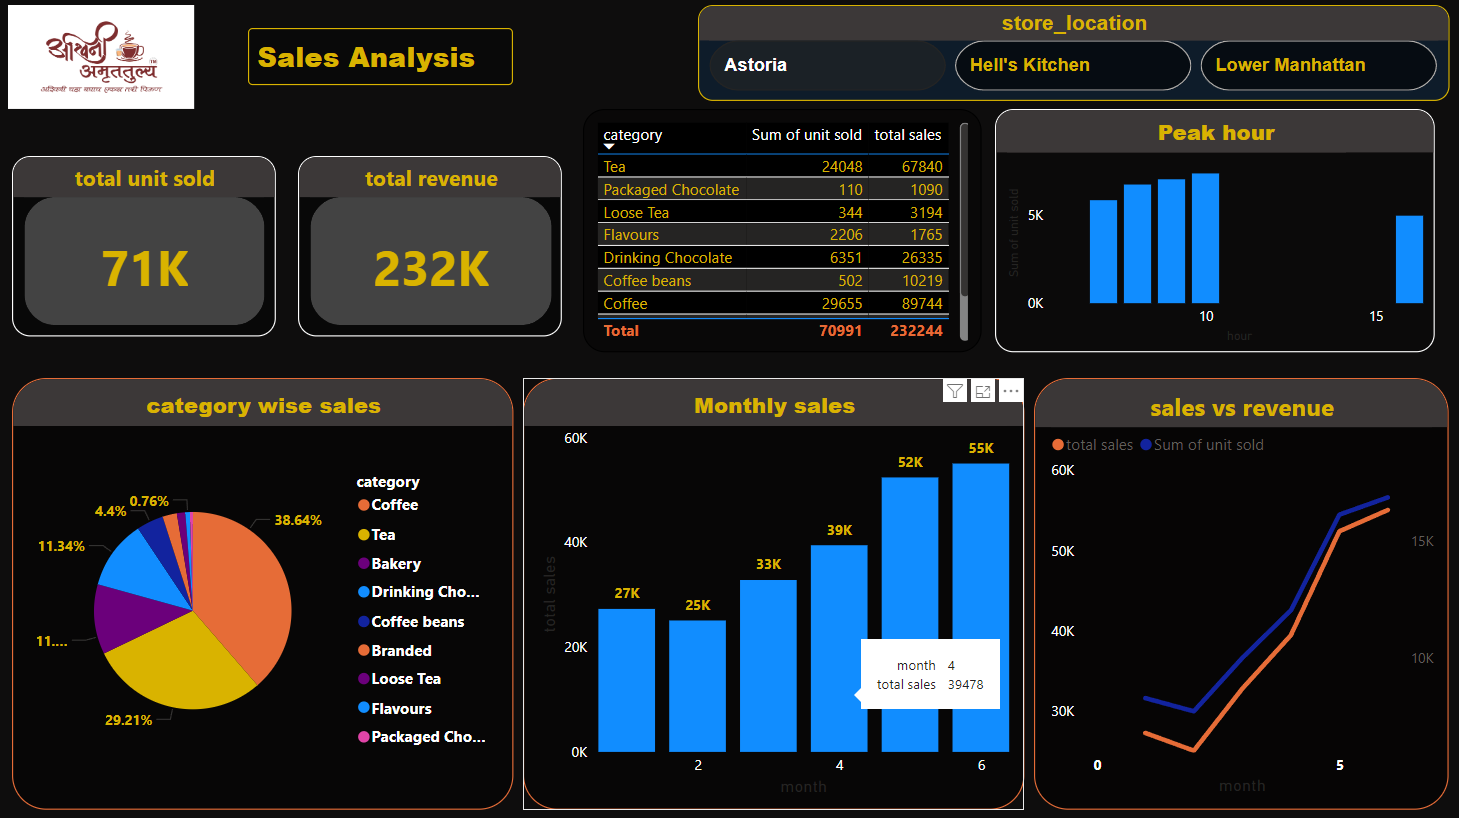

This screenshot's page, from the dashboard's own definition file:
{"tool":"powerbi","page":{"name":"Page 1","canvas":[1280,720],"ordinal":0},"visuals":[{"type":"advancedSlicerVisual","fields":{"Values":["Transactions.store_location"]},"box":[610.8,6.8,657.5,83.6],"z":0},{"type":"lineChart","title":"sales vs revenue","fields":{"Category":["Transactions.month"],"Y":["Transactions.total sales"],"Y2":["Sum(Transactions.transaction_qty)"]},"box":[905.5,333.6,362.8,378.4],"z":1000},{"type":"clusteredColumnChart","title":"Peak hour","fields":{"Category":["Transactions.hour"],"Y":["Sum(Transactions.transaction_qty)"]},"box":[871.5,98.2,385.2,213],"z":2000},{"type":"tableEx","fields":{"Values":["Transactions.product_category","Sum(Transactions.transaction_qty)","Transactions.total sales"]},"box":[510.6,98.2,349.2,213],"z":3000},{"type":"cardVisual","title":"total unit sold","fields":{"Data":["Sum(Transactions.transaction_qty)"]},"box":[10.7,139.1,230.5,157.6],"z":5000},{"type":"cardVisual","title":"total revenue","fields":{"Data":["Transactions.total sales"]},"box":[260.7,139.1,231.5,157.6],"z":6000},{"type":"clusteredColumnChart","title":"Monthly  sales","fields":{"Category":["Transactions.month"],"Y":["Transactions.total sales"]},"box":[458.1,333.6,438.7,378.4],"z":7000},{"type":"image","box":[6.8,6.8,163.4,91.4],"z":8000},{"type":"textbox","box":[216.9,27.2,232.5,49.6],"z":9000},{"type":"pieChart","title":"category wise sales","fields":{"Category":["Transactions.product_category"],"Y":["Sum(Transactions.sales)"]},"box":[10.7,333.6,438.7,378.4],"z":12000}]}

Visuals, with their boxes in screenshot pixels (x1, y1, x2, y2), scaled from the page's 1280x720 canvas onto the 1459x818 screenshot:
advancedSlicerVisual - Transactions.store_location: 696/8/1446/103
"sales vs revenue" lineChart: 1032/379/1446/809
"Peak hour" clusteredColumnChart: 993/112/1432/354
tableEx - Transactions.product_category x Sum(Transactions.transaction_qty): 582/112/980/354
"total unit sold" cardVisual: 12/158/275/337
"total revenue" cardVisual: 297/158/561/337
"Monthly  sales" clusteredColumnChart: 522/379/1022/809
image: 8/8/194/112
textbox: 247/31/512/87
"category wise sales" pieChart: 12/379/512/809
